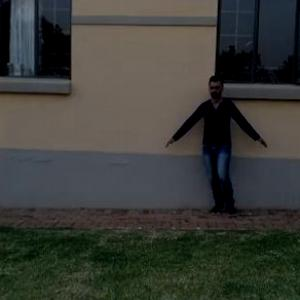land: (170, 78, 267, 227)
